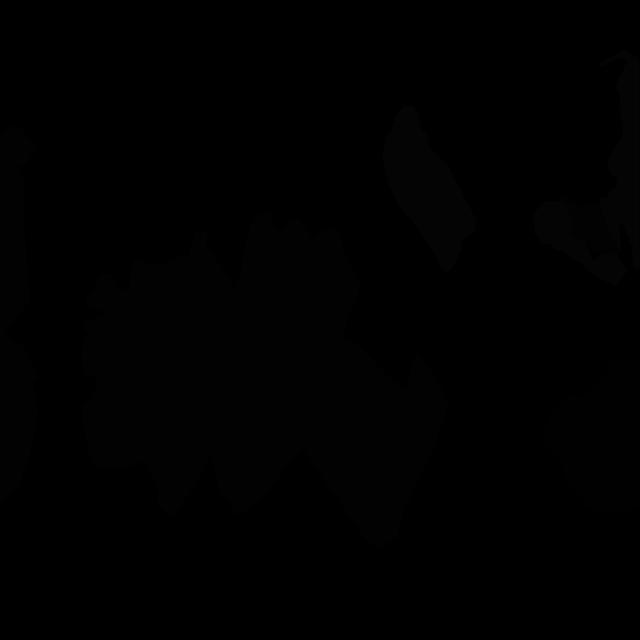cardboard: (251, 228, 449, 547), (81, 231, 246, 515), (200, 212, 314, 515), (0, 125, 40, 383), (0, 379, 38, 501), (560, 195, 620, 258)
rigid_plastic: (542, 358, 640, 515)
soft_plastic: (382, 105, 477, 272), (598, 50, 640, 271), (534, 201, 628, 286)
